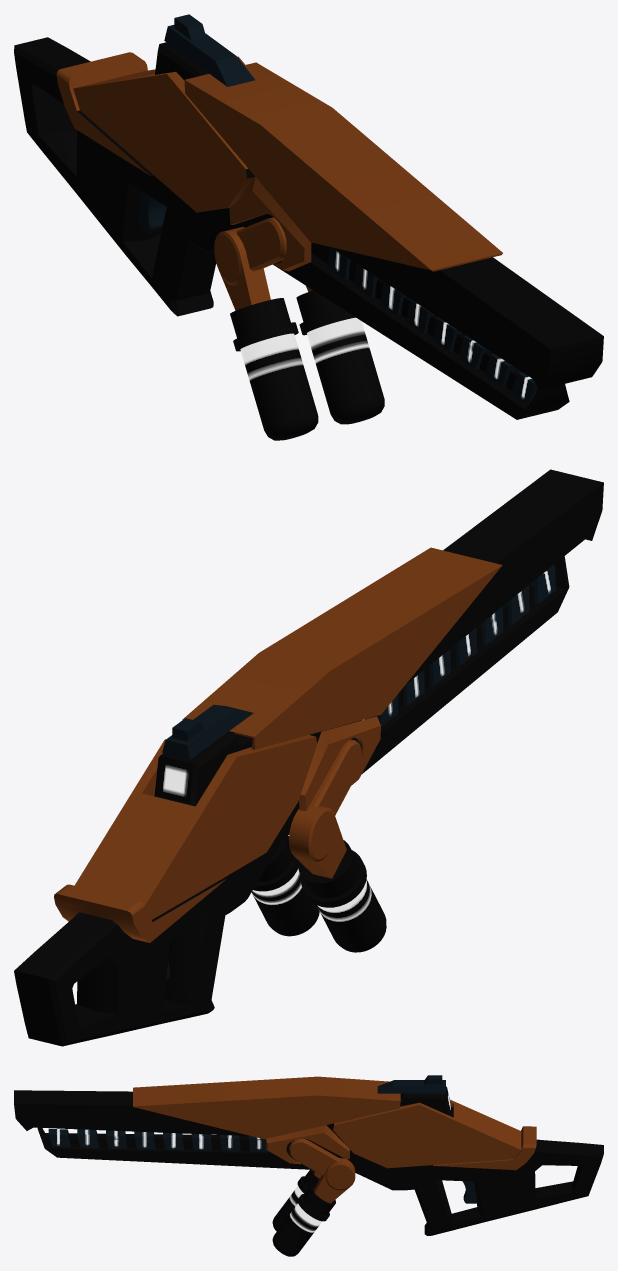
The model's file is SM_Shotgun.fbx.
3 views of the same model, one above another, from view 1: azimuth 30°, elevation 25°; view 2: azimuth 150°, elevation 25°; view 3: azimuth 270°, elevation 25° (orthographic). The views are drawn at different scales.
Parts seen in each view (by area): view 1: Game_Res1; view 2: Game_Res1; view 3: Game_Res1.
Boxes of the visible parts, box(x1,y1,x2,y2) form: Game_Res1: box(14, 14, 603, 440); Game_Res1: box(14, 469, 603, 1046); Game_Res1: box(14, 1075, 603, 1256).
Bounding box in the file's own units: 16.45 × 39.9 × 126.
1 material, 1 textured.
